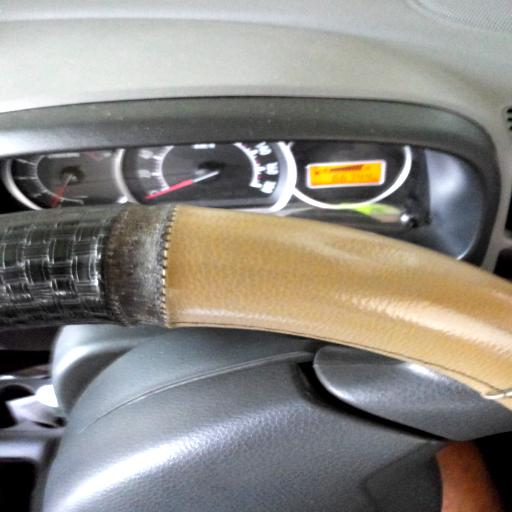tachometer: (9, 155, 126, 205)
